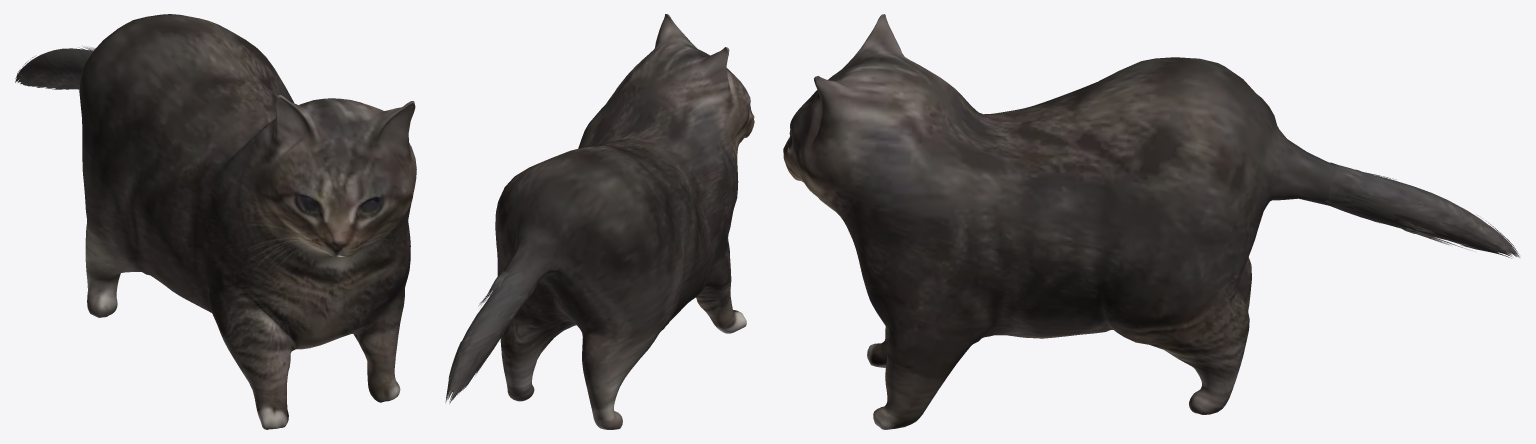
File: oiia-cat.glb
3 renders of one model, left to right at view 1: azimuth 30°, elevation 25°; view 2: azimuth 150°, elevation 25°; view 3: azimuth 270°, elevation 25°, orthographic. The views are drawn at different scales.
Visible parts, largest first — view 1: Muchkin1.002; view 2: Muchkin1.002; view 3: Muchkin1.002.
Part boxes in pixels (x1,y1,x2,y2): Muchkin1.002: (15, 14, 416, 429); Muchkin1.002: (445, 14, 754, 429); Muchkin1.002: (783, 14, 1519, 429).
Size of the model in its own units: 0.2392 by 0.3866 by 0.7242.
1 material, 1 textured.
